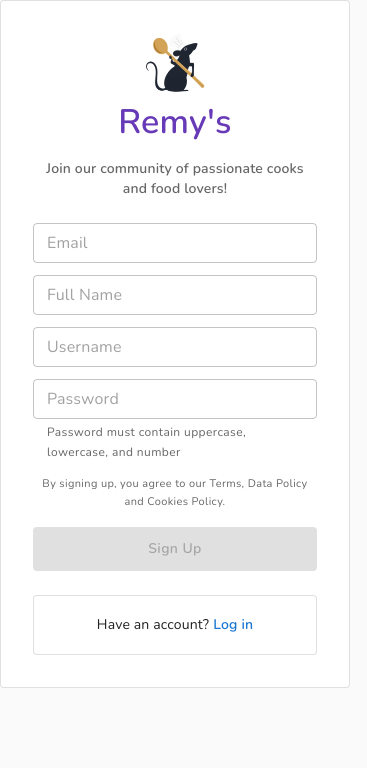
Test: RegisterForm Component › should display error message on registration failure
In the field with placeholder "Email": (175, 243) [33,223,317,263], type "test@example.com"
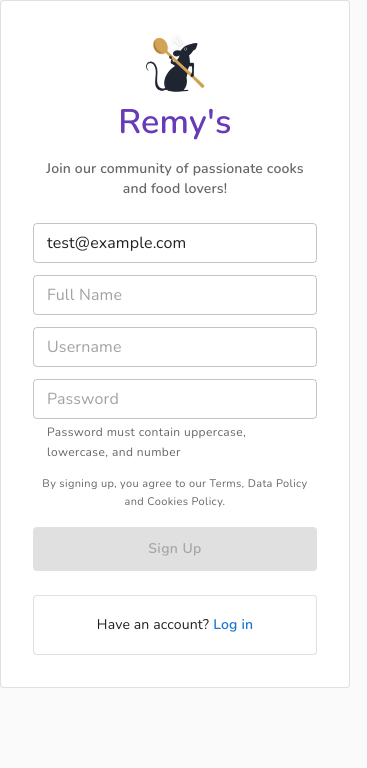
In the field with placeholder "Username": (175, 347) [33,327,317,367], type "existinguser"
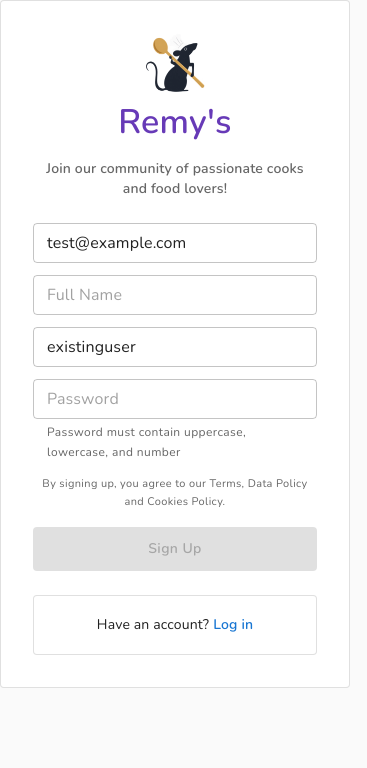
In the password field with placeholder "Password": (175, 399) [33,379,317,419], type "Password123"
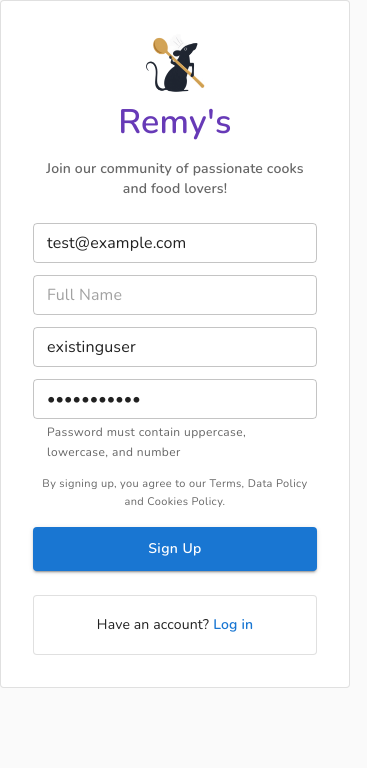
Click the button "Sign Up": (175, 549) [33,527,317,571]
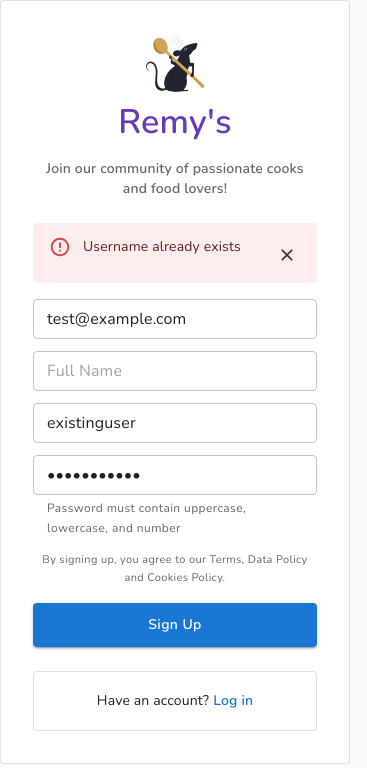
Check: the text "Username already exists" is shown, box [83,237,241,256]
